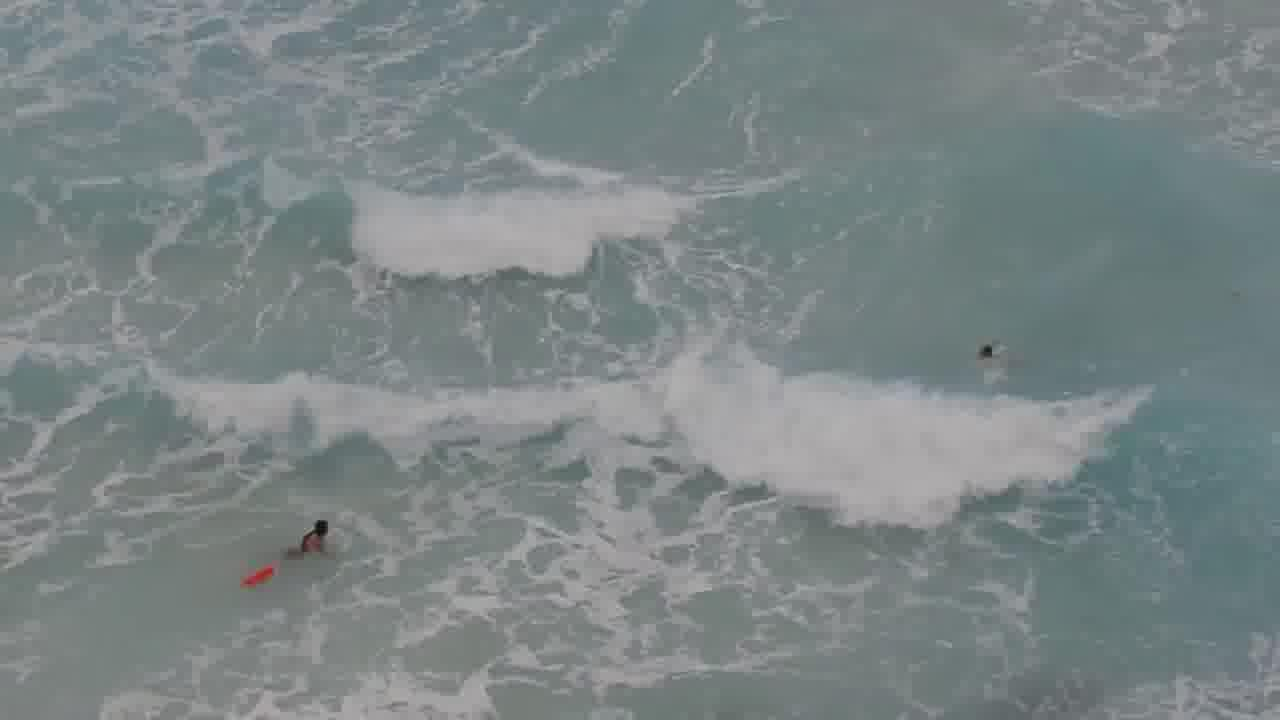human: (285, 509, 345, 571), (961, 329, 1014, 387)
